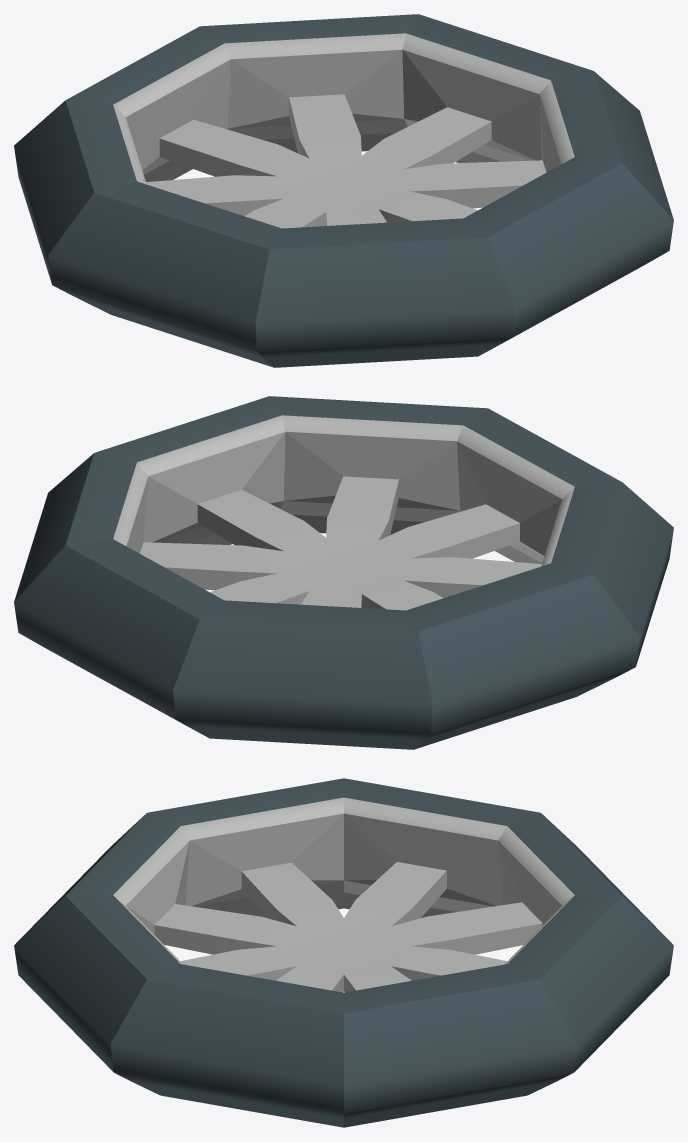
File: Tire.fbx
The picture shows the model from 3 angles, top to bottom: view 1: azimuth 30°, elevation 25°; view 2: azimuth 150°, elevation 25°; view 3: azimuth 270°, elevation 25°; orthographic projection. The views are drawn at different scales.
Parts seen in each view (by area): view 1: tire; view 2: tire; view 3: tire.
Part boxes in pixels (box(x1,y1,x2,y2)): tire: box(14, 14, 673, 367); tire: box(14, 396, 673, 749); tire: box(14, 778, 673, 1127).
Size of the model in its own units: 2.95 by 0.607 by 2.95.
